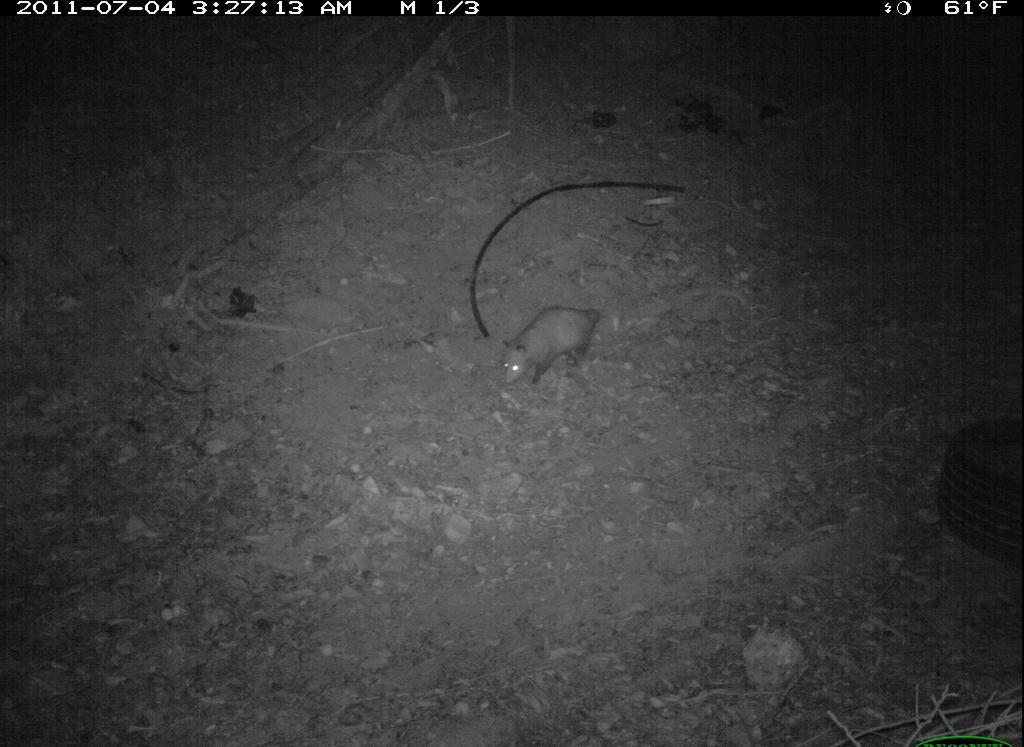opossum: (493, 297, 627, 388)
